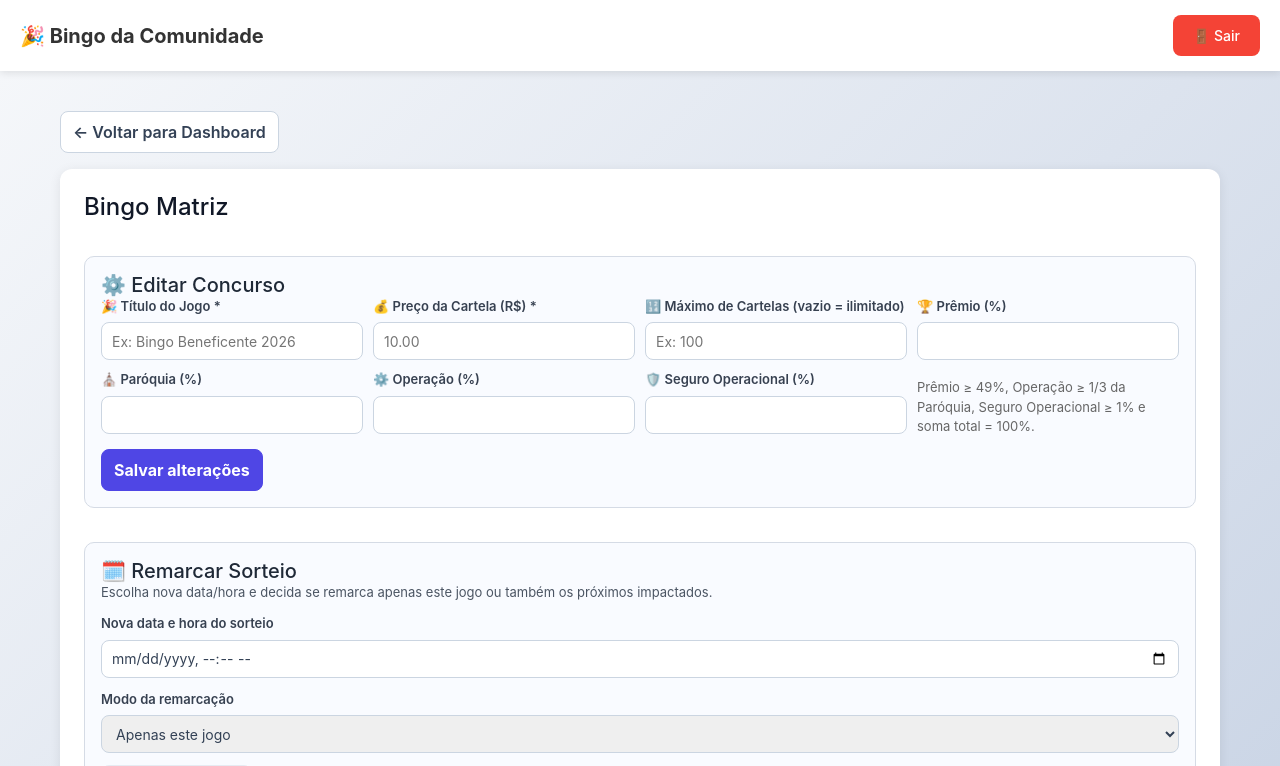
Scenario: GameDetail - remarcação › simula impacto da remarcação em modo single
Type "2026-03-10T19:00" into the field labelled "Nova data e hora do sorteio" at [640, 659], box [101, 640, 1179, 678]
(page scrolled)
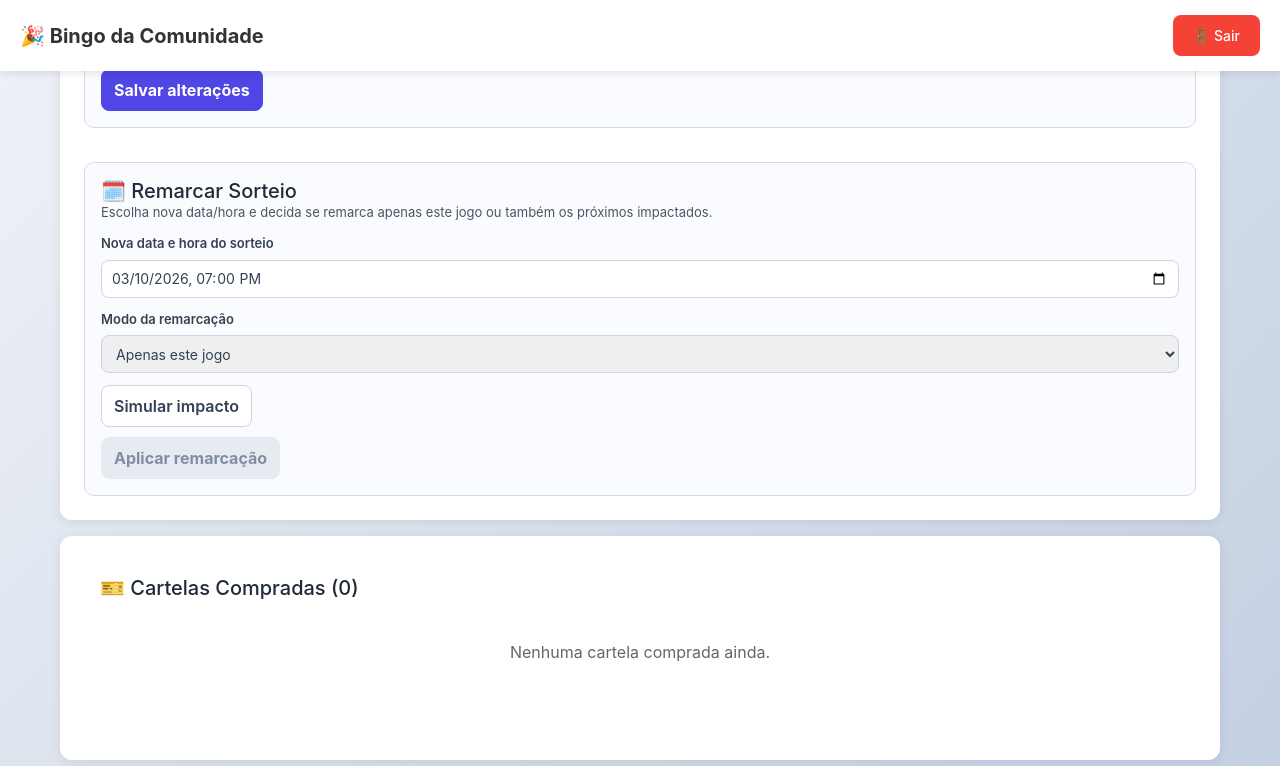
Click the button "Simular impacto" at [176, 406], box [101, 385, 252, 427]
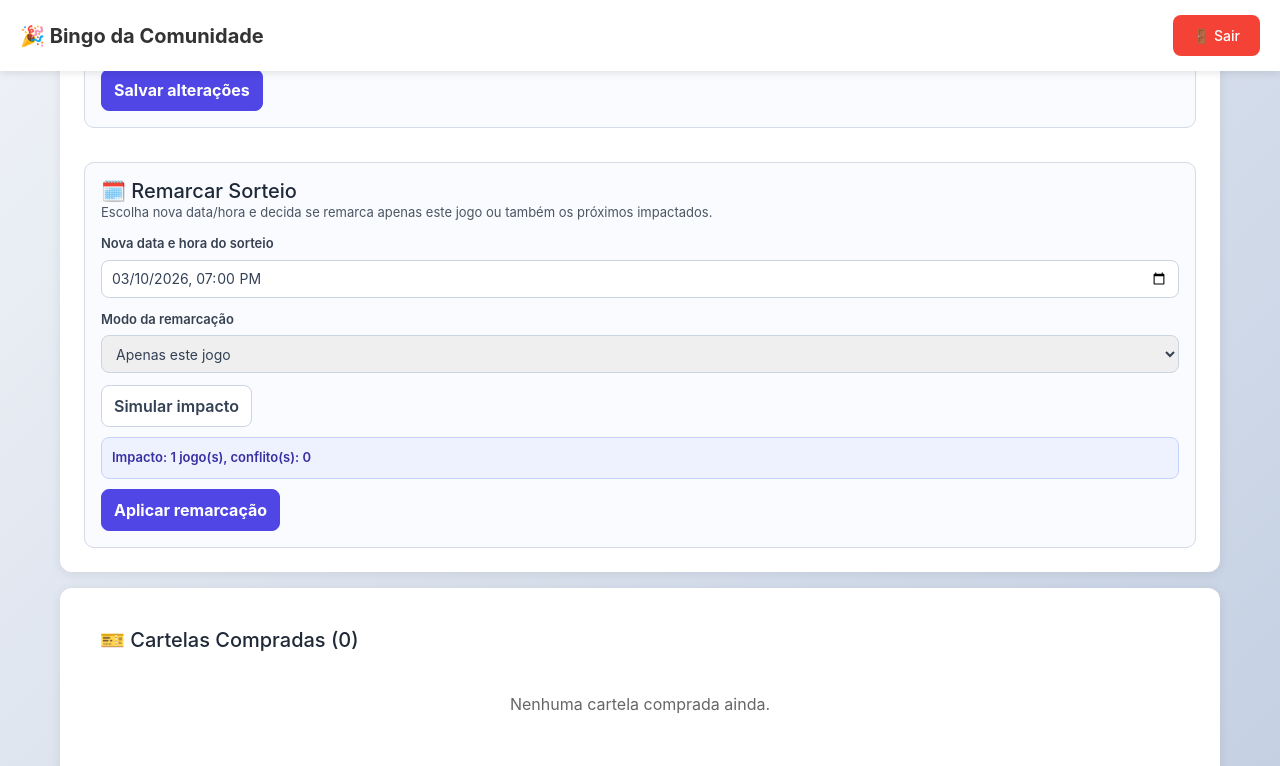
Expected: the text "Impacto: 1 jogo(s), conflito(s): 0" is shown, [112, 449, 311, 465]
